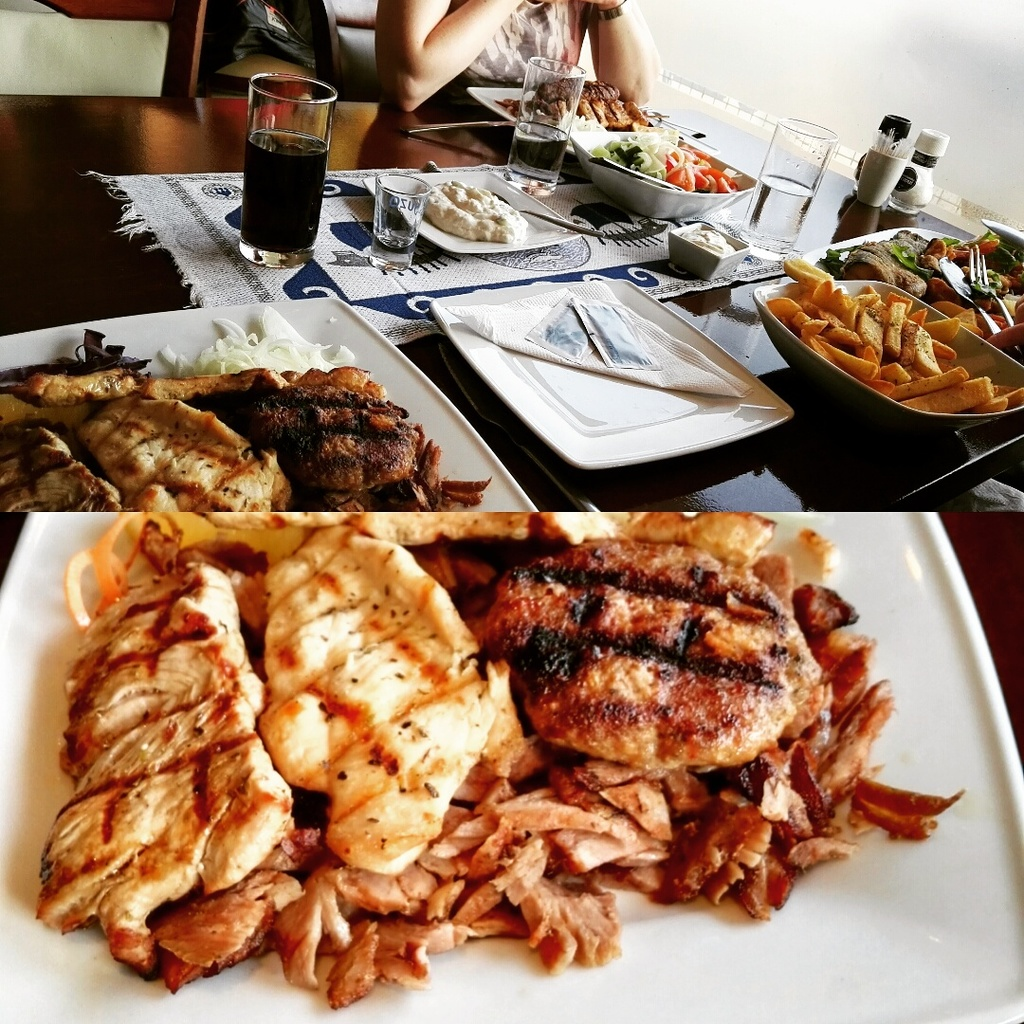French fries: (758, 229, 971, 389)
